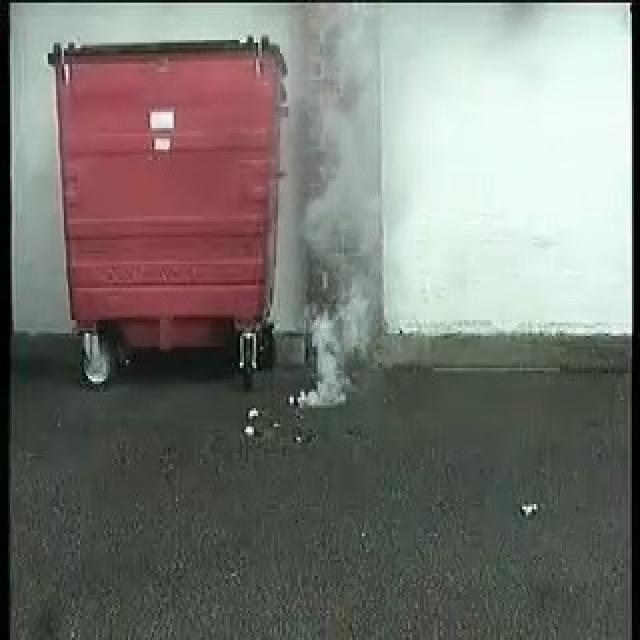smoke: (276, 84, 378, 407)
